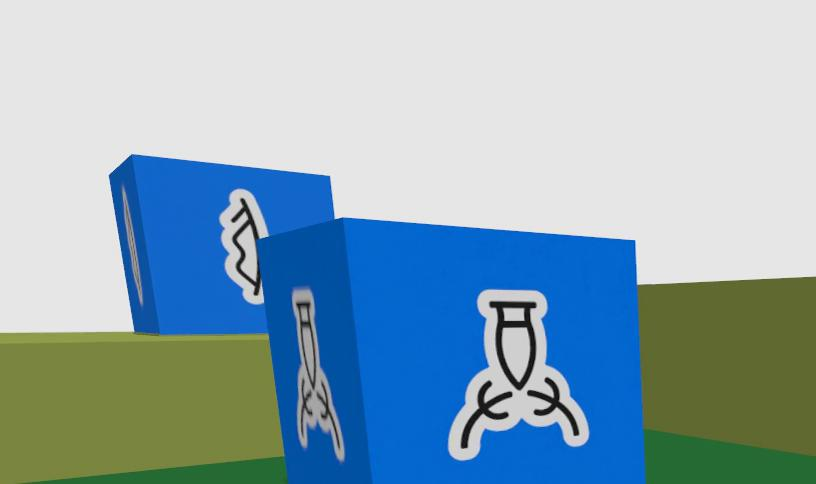KFS_REAL: (260, 218, 645, 484), (110, 155, 333, 334), (26, 376, 501, 435), (448, 290, 586, 460), (292, 287, 342, 462), (220, 189, 269, 304)
